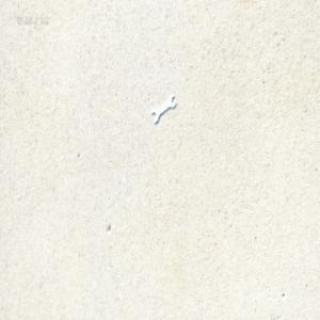Wrenchtrack_idkeyframe: (150, 91, 175, 123)
